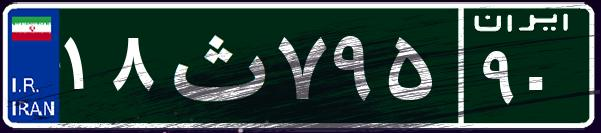0: (525, 38, 570, 115)
1: (57, 26, 110, 107)
5: (385, 28, 445, 110)
7: (273, 28, 330, 110)
8: (110, 28, 158, 105)
9: (330, 28, 385, 110), (475, 38, 525, 113)
ث: (158, 15, 273, 115)
